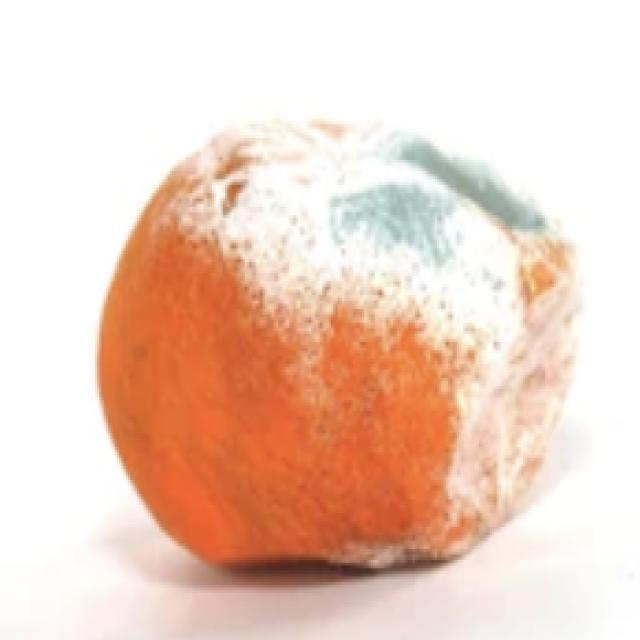sangat-busuk: (99, 118, 578, 567)
